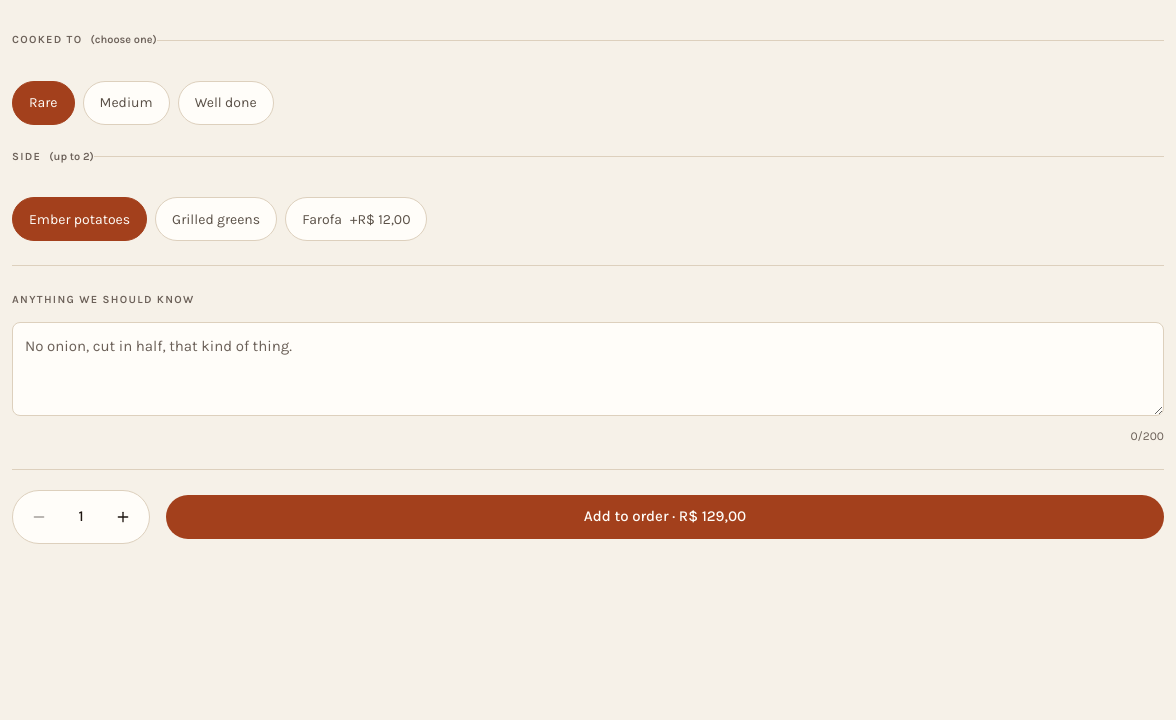
Scenario: ProductCustomizer › multiplies the button total by the quantity
Click the button named "One more". click: (123, 516)
box: [101, 494, 145, 538]
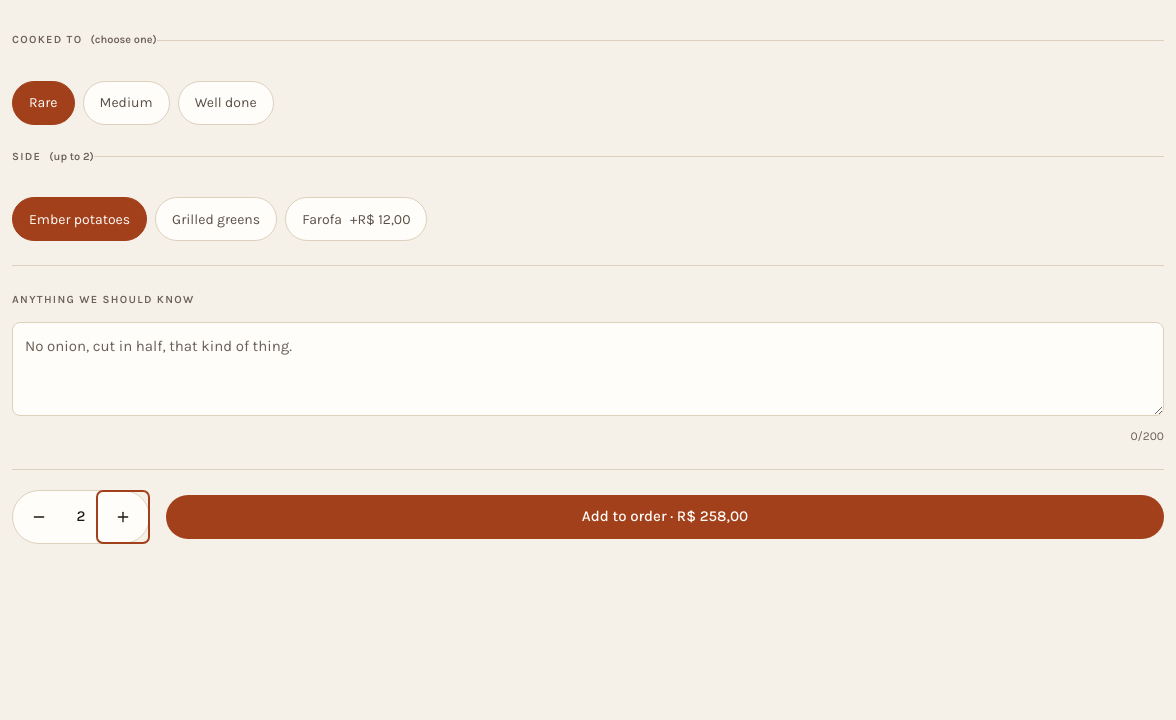
Check: the button "Add to order · R$ 258,00" is shown, box [166, 494, 1164, 538]
